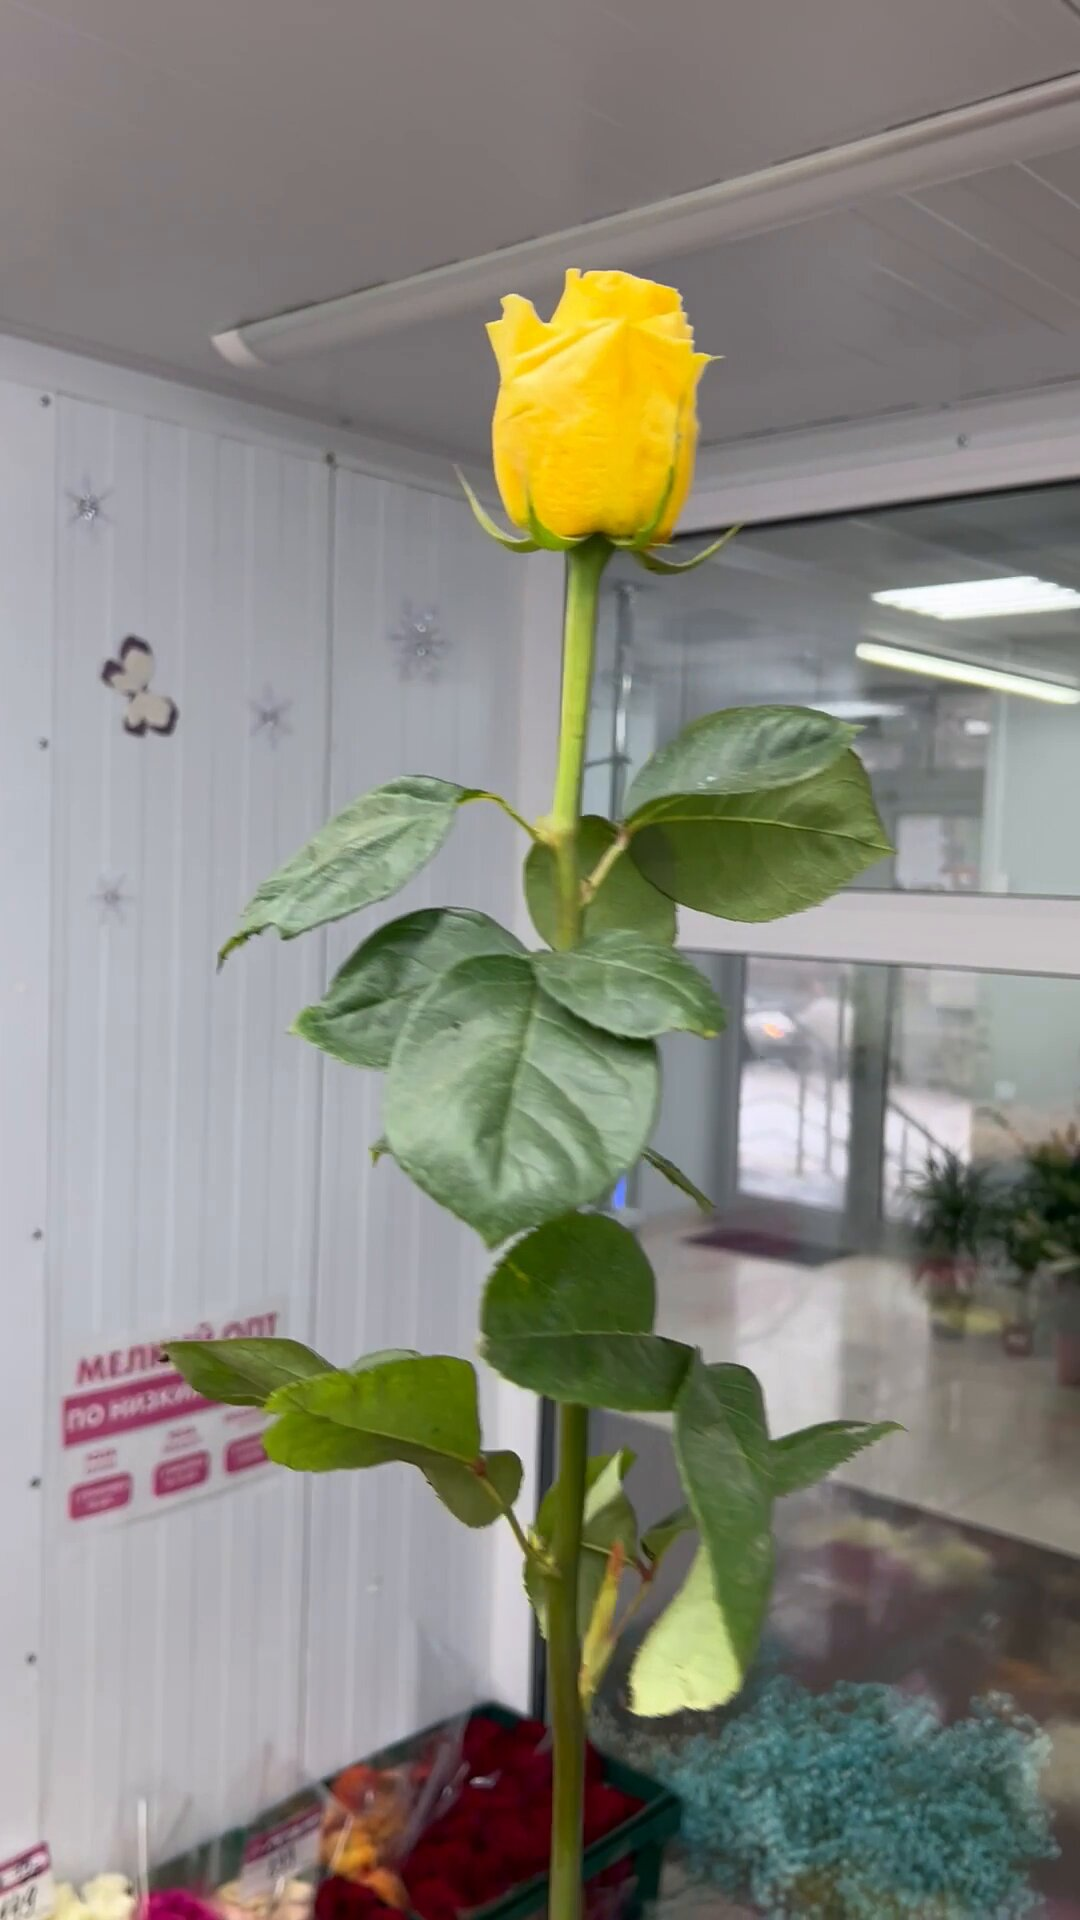rose: (309, 268, 885, 1840)
